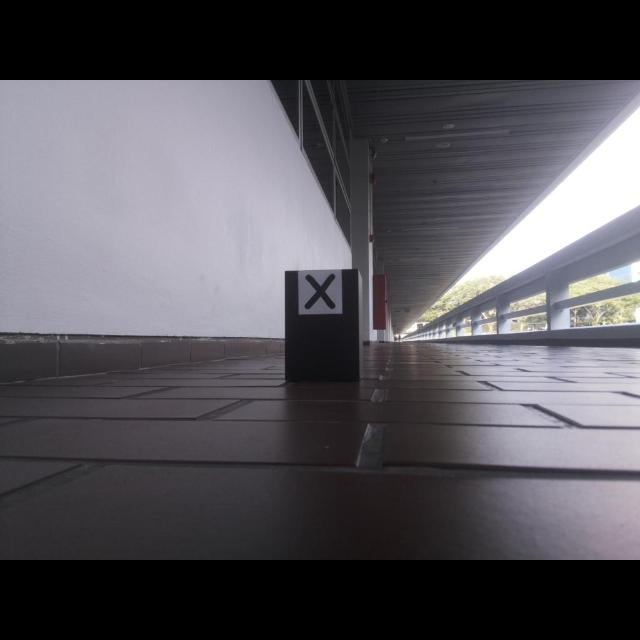X: (304, 273, 336, 310)
